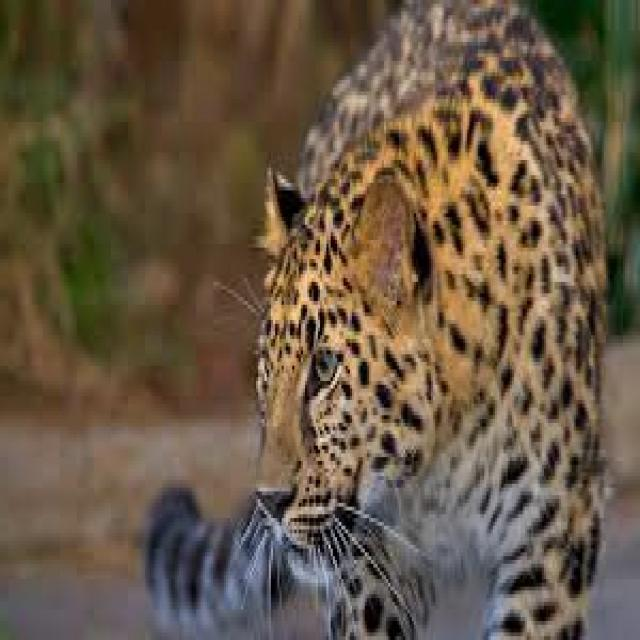leopard: (147, 0, 608, 636)
